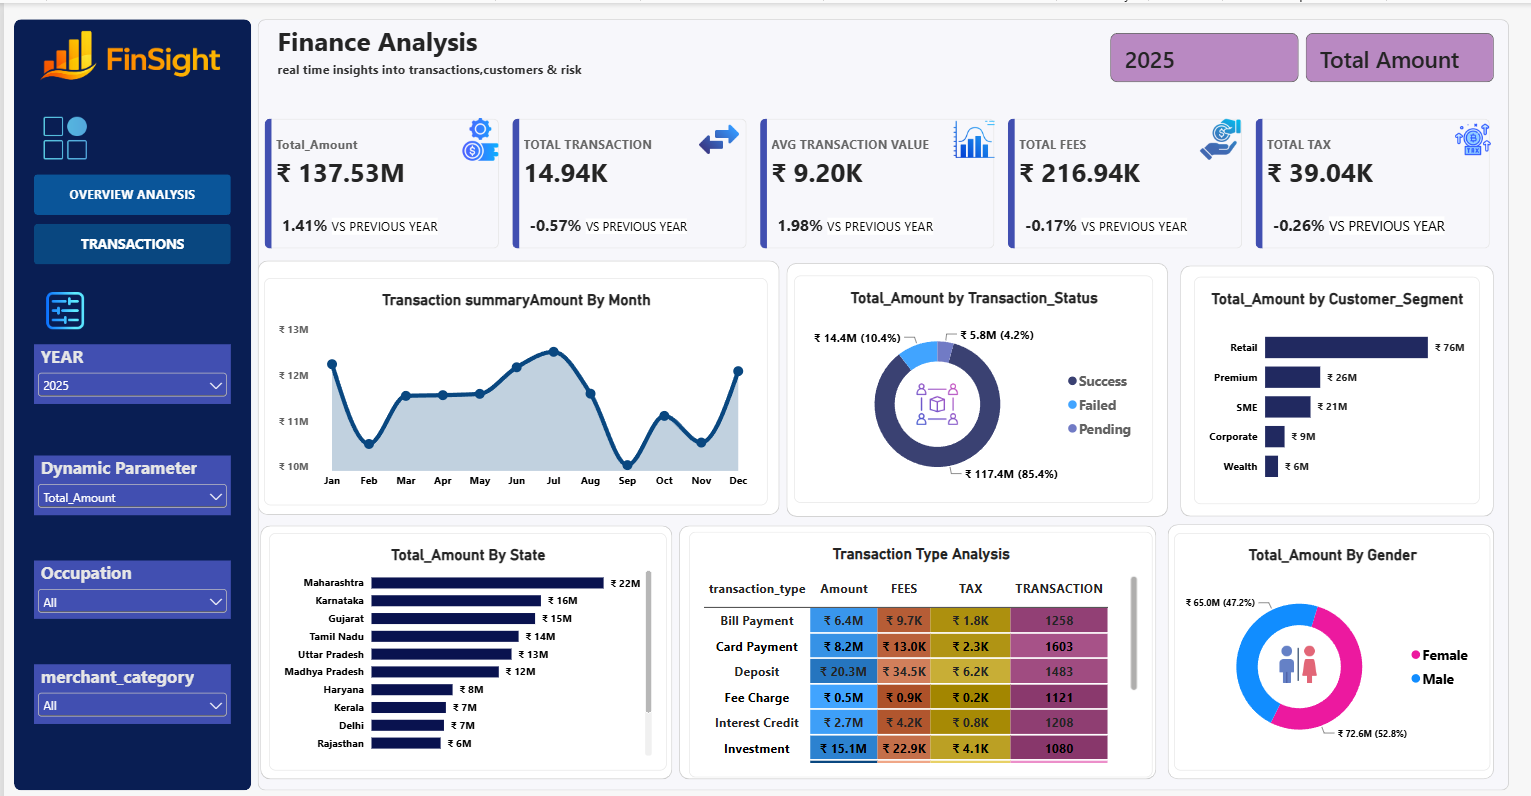

The page's visual inventory and layout, read from the dashboard file:
{"tool":"powerbi","page":{"name":"OVERVIEW ANALYSIS","canvas":[1800,950],"ordinal":0},"visuals":[{"type":"shape","box":[11.4,19.6,279.6,909.2],"z":0},{"type":"shape","box":[291.7,19.2,15,909],"z":1000},{"type":"image","box":[19.6,19.6,264.9,86.7],"z":2000},{"type":"shape","box":[299.2,19.6,1474.8,909],"z":3000},{"type":"cardVisual","fields":{"Data":["finance_transactions.Dashboard Title"]},"box":[305.8,19.6,562.5,75.2],"z":4000},{"type":"cardVisual","fields":{"Data":["finance_transactions.Total_Amount","finance_transactions.TOTAL TRANSACTION","finance_transactions.AVG TRANSACTION VALUE","finance_transactions.TOTAL FEES","finance_transactions.TOTAL TAX"]},"box":[305.8,135.7,1450,155],"z":5000},{"type":"slicer","fields":{"Values":["calender_table.year"]},"box":[36,402.3,232.2,70.3],"z":6000},{"type":"image","box":[536.3,135.7,50,50],"z":7000},{"type":"image","box":[817.6,135.7,50,50],"z":8000},{"type":"image","box":[1118.5,135.7,50,50],"z":9000},{"type":"image","box":[1407.9,135.7,50,50],"z":10000},{"type":"image","box":[1705.5,135.7,50,50],"z":11000},{"type":"shape","box":[299.2,304.1,615,300],"z":12000},{"type":"slicer","fields":{"Values":["Dynamic Parameter.Dynamic Parameter"]},"box":[36,533.1,232.2,70.3],"z":13000},{"type":"areaChart","title":"Transaction summaryAmount By Month","fields":{"Category":["calender_table.month_name"],"Y":["finance_transactions.Total_Amount"]},"box":[305.8,323.8,593.6,268.2],"z":14000},{"type":"cardVisual","fields":{"Data":["finance_transactions.Selected Year","finance_transactions.Selected Dynamic Measure"]},"box":[1303.2,36,452.9,58.9],"z":15000},{"type":"shape","box":[922.2,305.8,449.7,299.2],"z":16000},{"type":"donutChart","fields":{"Category":["finance_transactions.transaction_status"],"Y":["finance_transactions.Total_Amount"]},"box":[930.4,320.5,423.5,268.2],"z":17000},{"type":"shape","box":[1386.6,309,369.6,296],"z":18000},{"type":"clusteredBarChart","fields":{"Category":["customers.customer_segment"],"Y":["finance_transactions.Total_Amount"]},"box":[1403,322.1,336.8,268.2],"z":19000},{"type":"image","box":[1052,446.4,95.8,53],"z":20000},{"type":"shape","box":[302.5,616.5,485.6,299.2],"z":21000},{"type":"clusteredBarChart","title":"Total_Amount By State","fields":{"Category":["customers.state"],"Y":["finance_transactions.Total_Amount"]},"box":[312.3,624.7,468.5,279.9],"z":22000},{"type":"shape","box":[1371.7,614.4,384.5,300.6],"z":23000},{"type":"donutChart","title":"Total_Amount By Gender","fields":{"Category":["customers.gender"],"Y":["finance_transactions.Total_Amount"]},"box":[1379,624.7,372.8,279.9],"z":24000},{"type":"shape","box":[796.3,616.5,562.5,299.2],"z":25000},{"type":"tableEx","title":"Transaction Type Analysis","fields":{"Values":["finance_transactions.transaction_type","finance_transactions.Total_Amount","finance_transactions.TOTAL FEES","finance_transactions.TOTAL TAX","finance_transactions.TOTAL TRANSACTION"]},"box":[807.8,623,546.1,289.4],"z":26000},{"type":"image","box":[1486.6,754.3,78.1,50.1],"z":27000},{"type":"slicer","fields":{"Values":["customers.occupation"]},"box":[36,657.3,232.2,68.7],"z":28000},{"type":"slicer","fields":{"Values":["finance_transactions.merchant_category"]},"box":[36,780,232.2,70.3],"z":29000},{"type":"pageNavigator","box":[36,201.1,232.2,107.9],"z":30000},{"type":"image","box":[36,336.8,73.6,50.7],"z":31000},{"type":"image","box":[36,134.1,73.6,50.7],"z":32000}]}

Visuals, with their boxes in screenshot pixels (x1, y1, x2, y2), scaled from the page's 1800x950 canvas onto the 1531x796 screenshot:
shape: bbox(10, 16, 248, 778)
shape: bbox(248, 16, 261, 778)
image: bbox(17, 16, 242, 89)
shape: bbox(254, 16, 1509, 778)
cardVisual - finance_transactions.Dashboard Title: bbox(260, 16, 739, 79)
cardVisual - finance_transactions.Total_Amount x finance_transactions.TOTAL TRANSACTION: bbox(260, 114, 1493, 244)
slicer - calender_table.year: bbox(31, 337, 228, 396)
image: bbox(456, 114, 499, 156)
image: bbox(695, 114, 738, 156)
image: bbox(951, 114, 994, 156)
image: bbox(1197, 114, 1240, 156)
image: bbox(1451, 114, 1493, 156)
shape: bbox(254, 255, 778, 506)
slicer - Dynamic Parameter.Dynamic Parameter: bbox(31, 447, 228, 506)
"Transaction summaryAmount By Month" areaChart: bbox(260, 271, 765, 496)
cardVisual - finance_transactions.Selected Year x finance_transactions.Selected Dynamic Measure: bbox(1108, 30, 1494, 80)
shape: bbox(784, 256, 1167, 507)
donutChart - finance_transactions.transaction_status x finance_transactions.Total_Amount: bbox(791, 269, 1152, 493)
shape: bbox(1179, 259, 1494, 507)
clusteredBarChart - customers.customer_segment x finance_transactions.Total_Amount: bbox(1193, 270, 1480, 495)
image: bbox(895, 374, 976, 418)
shape: bbox(257, 517, 670, 767)
"Total_Amount By State" clusteredBarChart: bbox(266, 523, 664, 758)
shape: bbox(1167, 515, 1494, 767)
"Total_Amount By Gender" donutChart: bbox(1173, 523, 1490, 758)
shape: bbox(677, 517, 1156, 767)
"Transaction Type Analysis" tableEx: bbox(687, 522, 1152, 764)
image: bbox(1264, 632, 1331, 674)
slicer - customers.occupation: bbox(31, 551, 228, 608)
slicer - finance_transactions.merchant_category: bbox(31, 654, 228, 712)
pageNavigator: bbox(31, 169, 228, 259)
image: bbox(31, 282, 93, 325)
image: bbox(31, 112, 93, 155)
